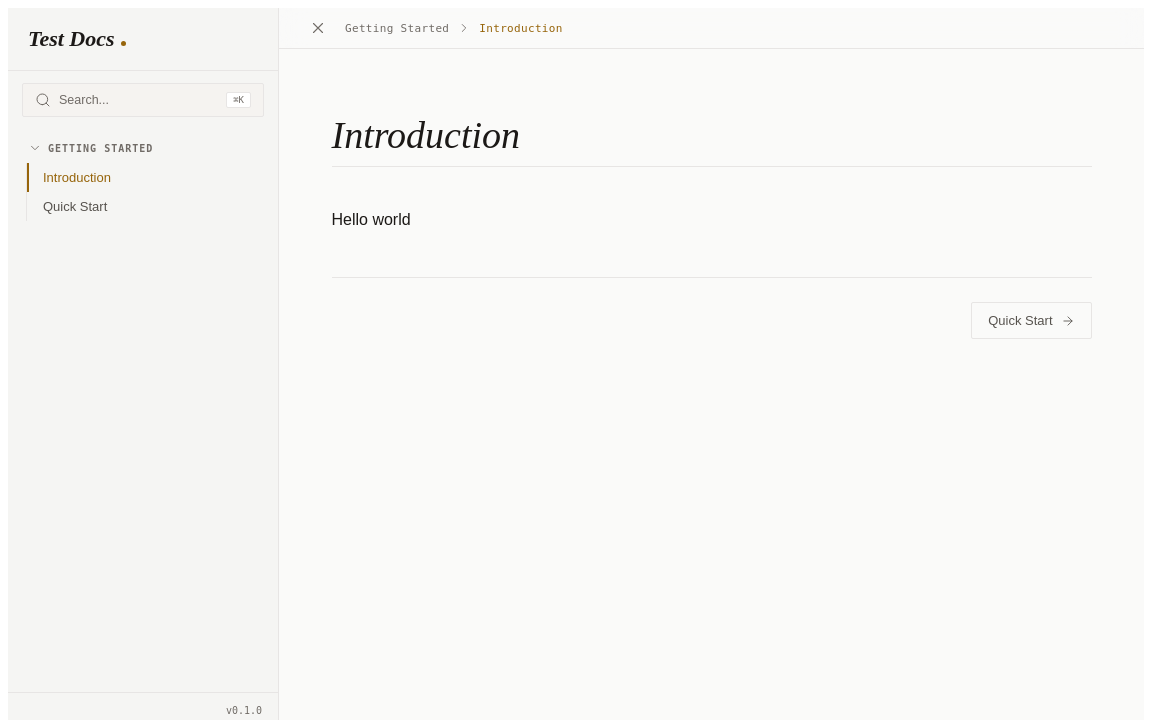
Test: Shell search › shows matching results after typing and debounce
Press k
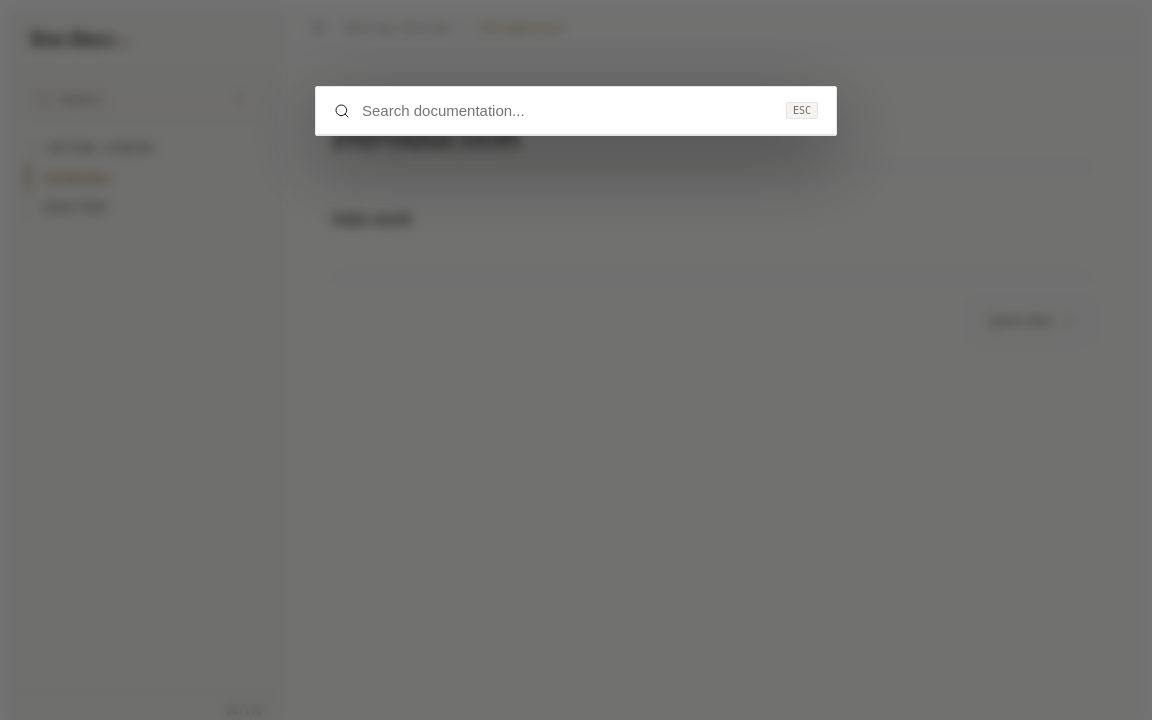
Type "Quick" into the field with placeholder "Search documentation..." at (568, 111), box [360,101,776,120]
Wait 150 ms
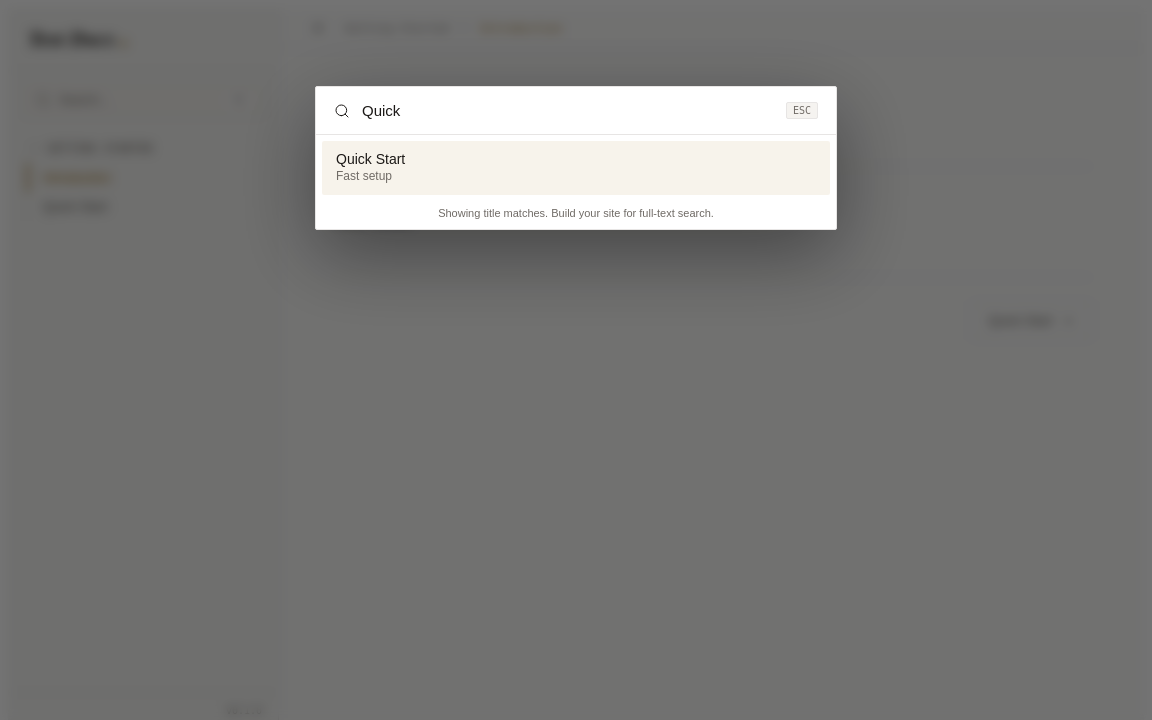
Now the text "Quick Start" is shown, box [336,151,405,167]
